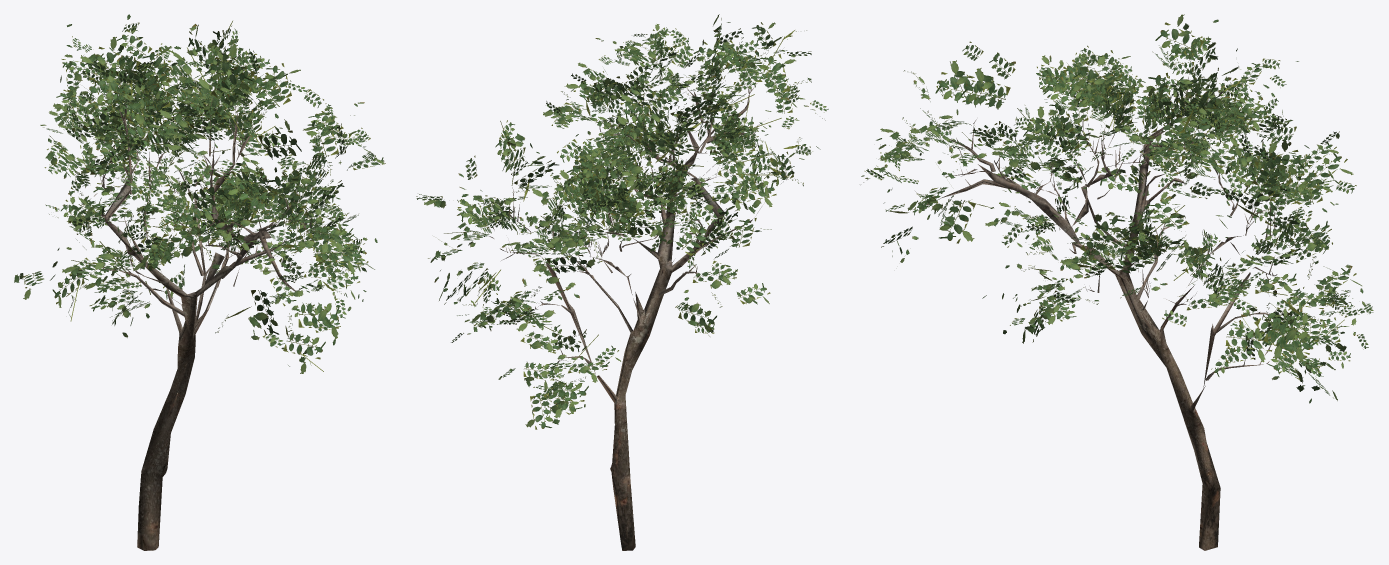
File: tree_small_02-far.glb
The picture shows the model from 3 angles, left to right: view 1: azimuth 30°, elevation 25°; view 2: azimuth 150°, elevation 25°; view 3: azimuth 270°, elevation 25°; orthographic projection. The views are drawn at different scales.
Parts seen in each view (by area): view 1: tree_small_02_LOD0; view 2: tree_small_02_LOD0; view 3: tree_small_02_LOD0.
Part boxes in pixels (left/top/right/bottom): tree_small_02_LOD0: left=14, top=14, right=385, bottom=550; tree_small_02_LOD0: left=416, top=14, right=828, bottom=550; tree_small_02_LOD0: left=861, top=14, right=1373, bottom=550.
Size of the model in its own units: 2.96 by 4.56 by 4.29.
3 materials, 3 textured.
